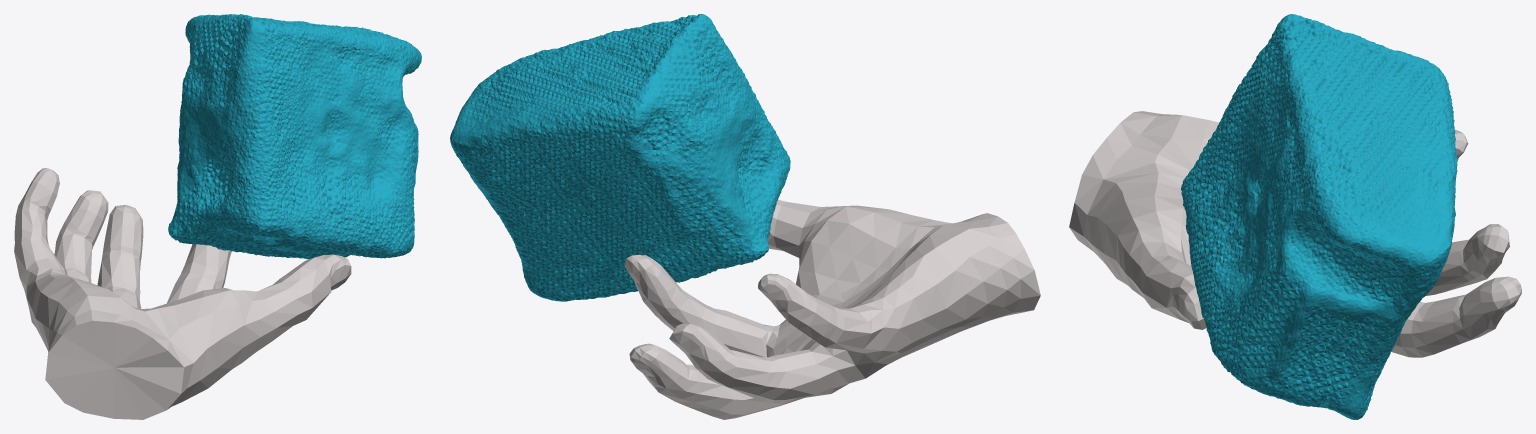
3 renders of one model, left to right at view 1: azimuth 30°, elevation 25°; view 2: azimuth 150°, elevation 25°; view 3: azimuth 270°, elevation 25°, orthographic. The views are drawn at different scales.
Parts seen in each view (by area): view 1: world; view 2: world; view 3: world.
Boxes of the visible parts, left/top/right/bottom form: world: left=14, top=14, right=421, bottom=419; world: left=450, top=14, right=1040, bottom=419; world: left=1069, top=14, right=1521, bottom=419.
Size of the model in its own units: 0.2291 by 0.1615 by 0.1668.
